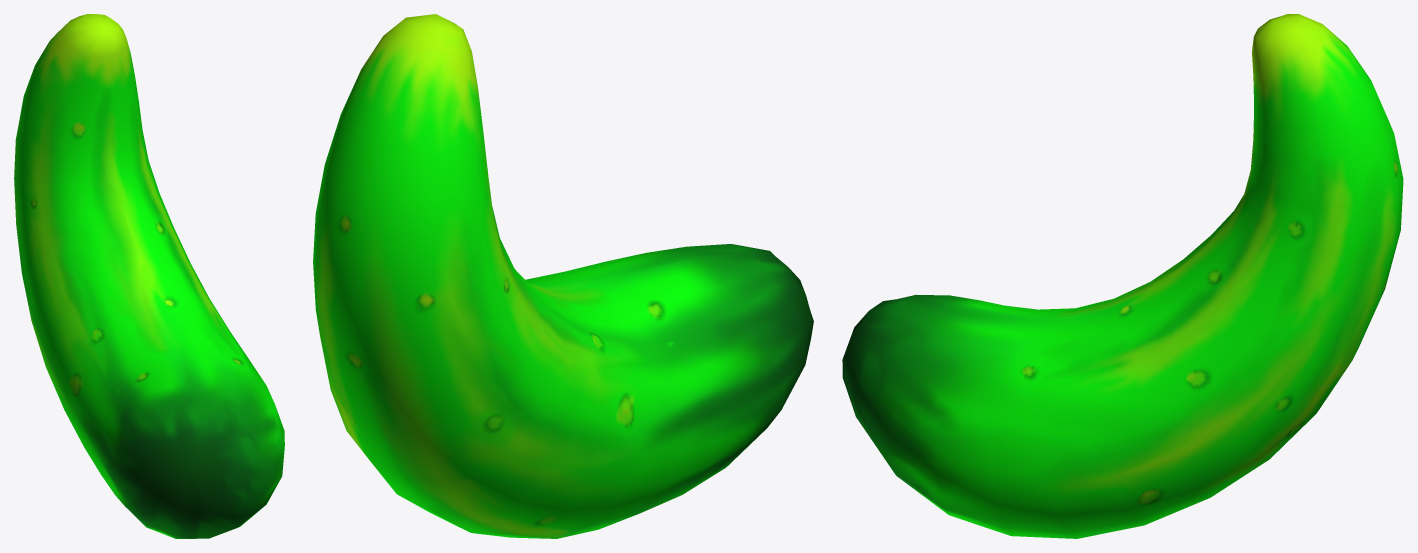
Rendered from ogur_01.fbx.
3 views of the same model, side by side, from view 1: azimuth 30°, elevation 25°; view 2: azimuth 150°, elevation 25°; view 3: azimuth 270°, elevation 25° (orthographic). The views are drawn at different scales.
Visible parts, largest first — view 1: Circle; view 2: Circle; view 3: Circle.
Boxes of the visible parts, <box> form: Circle: <box>14,14,284,538</box>; Circle: <box>313,14,813,538</box>; Circle: <box>842,14,1403,538</box>.
Size of the model in its own units: 211 by 442 by 439.
